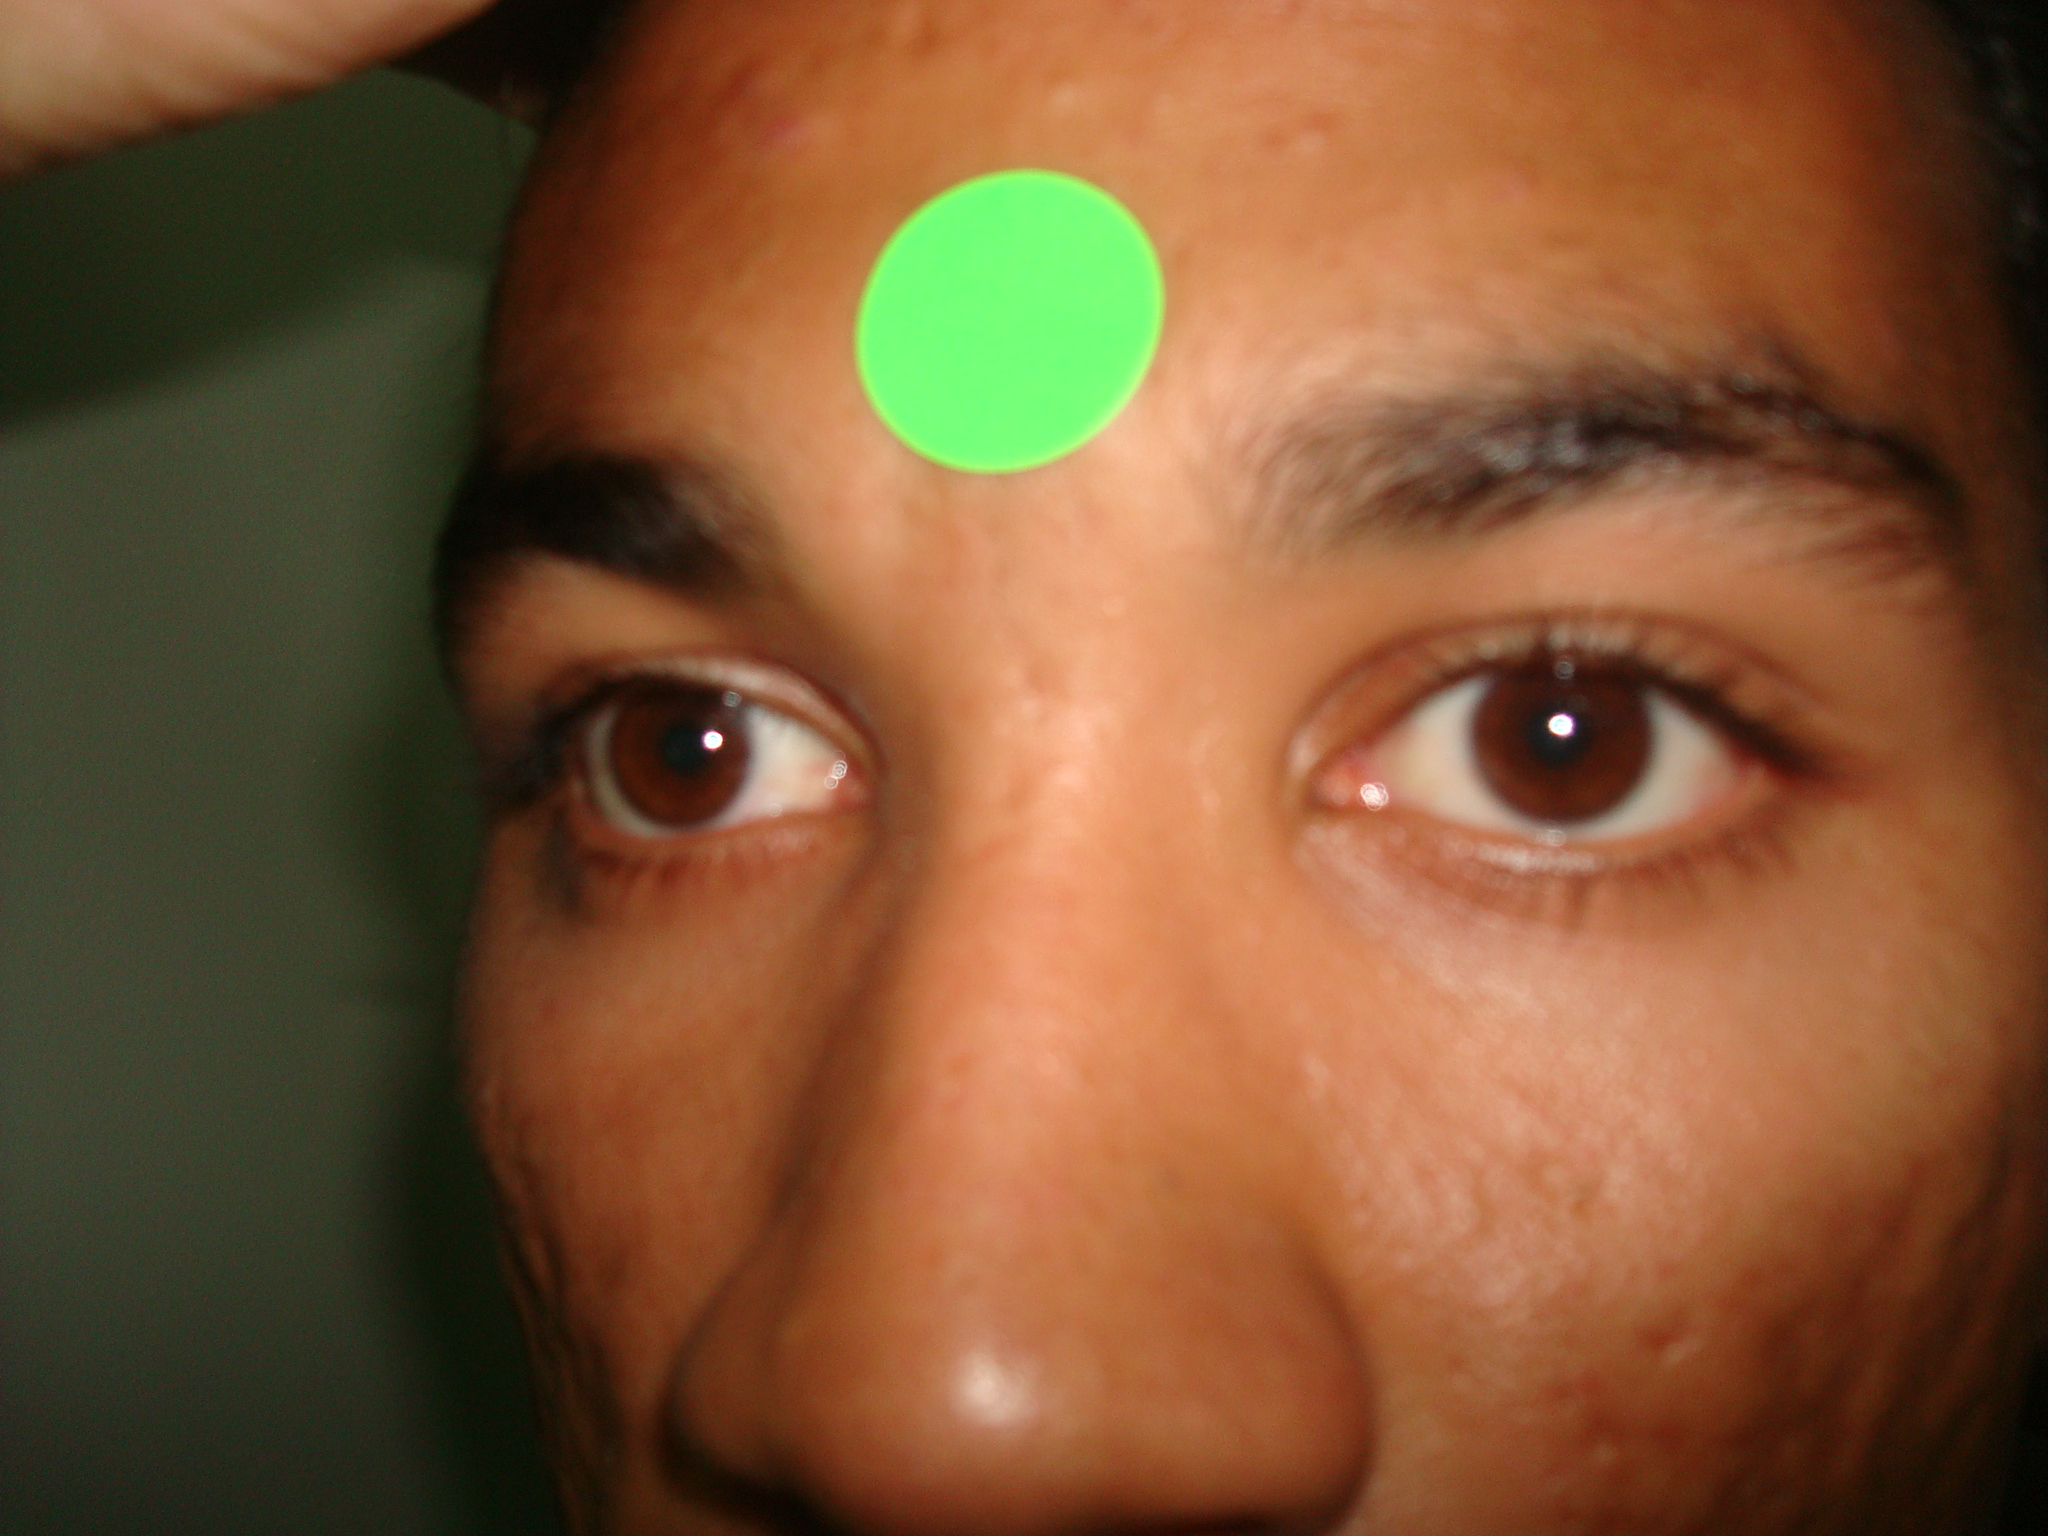flash: (1542, 707, 1579, 744), (701, 729, 726, 753)
limbo: (1442, 636, 1675, 833), (603, 678, 764, 820)
